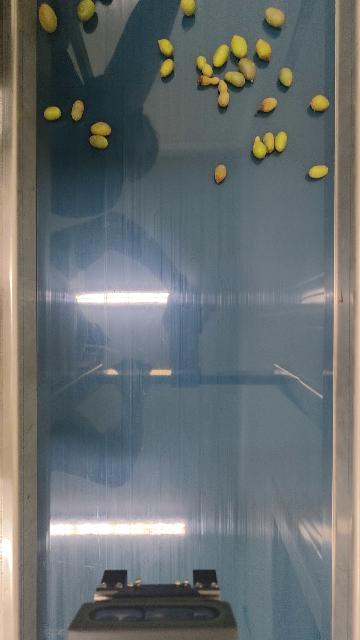Baby Potato: (37, 2, 59, 34), (237, 56, 258, 82), (230, 33, 249, 59), (264, 6, 286, 28), (216, 78, 232, 108), (212, 43, 230, 68), (76, 0, 96, 22), (224, 70, 247, 88), (195, 54, 213, 77), (255, 38, 272, 61), (89, 121, 112, 138), (310, 93, 330, 112), (69, 99, 86, 121), (157, 37, 175, 57), (158, 57, 175, 78), (88, 133, 110, 149), (258, 96, 278, 113), (308, 164, 329, 180), (252, 135, 266, 159), (278, 66, 294, 87), (262, 131, 276, 155), (273, 130, 287, 153), (43, 105, 62, 121), (213, 163, 227, 184), (179, 0, 197, 16), (198, 76, 217, 87)
